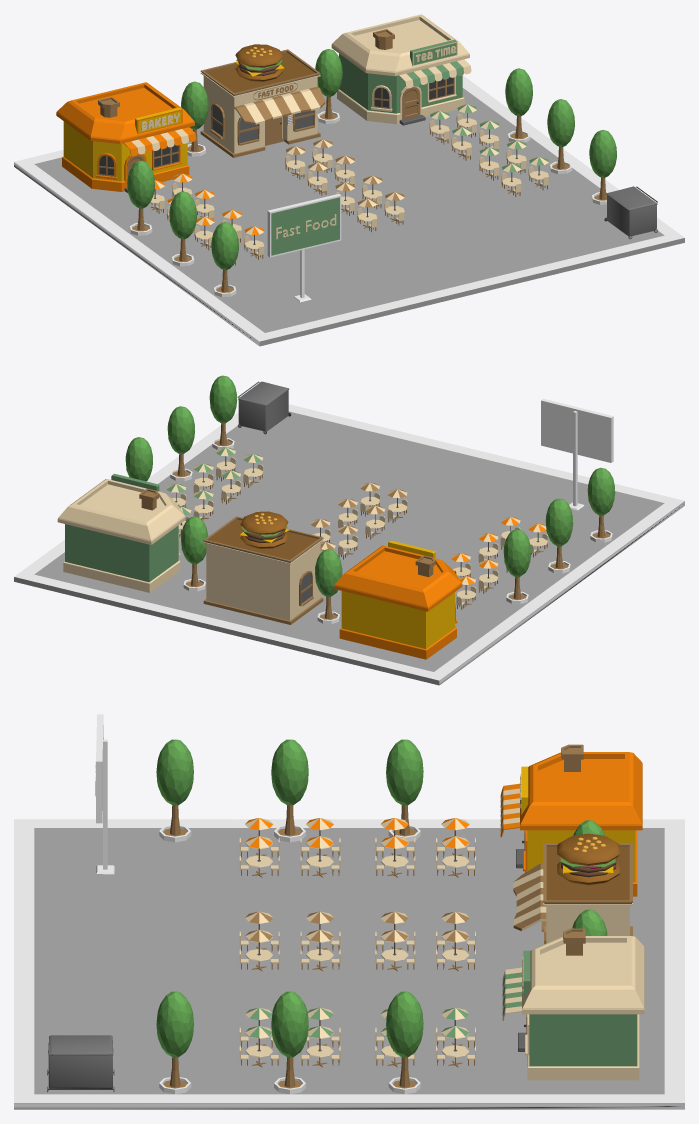
Rendered from Fast Food area.fbx.
3 renders of one model, top to bottom at view 1: azimuth 30°, elevation 25°; view 2: azimuth 150°, elevation 25°; view 3: azimuth 270°, elevation 25°, orthographic. The views are drawn at different scales.
Parts seen in each view (by area): view 1: City Ground_Color_0.001; view 2: City Ground_Color_0.001; view 3: City Ground_Color_0.001.
Boxes of the visible parts, <box> form: City Ground_Color_0.001: <box>14,14,684,346</box>; City Ground_Color_0.001: <box>14,375,684,685</box>; City Ground_Color_0.001: <box>14,714,684,1109</box>.
Bounding box in the file's own units: 3411 × 780 × 3411.
Materials: 1 (1 with a texture image).
